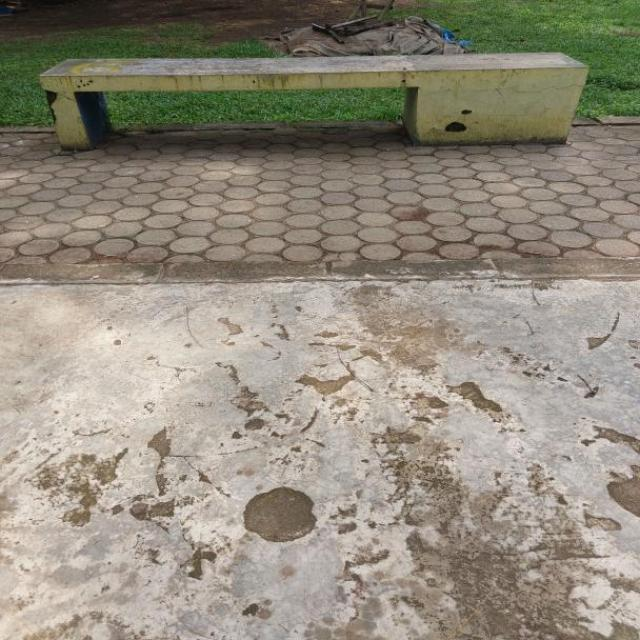bench ahead at: (37, 44, 601, 150)
